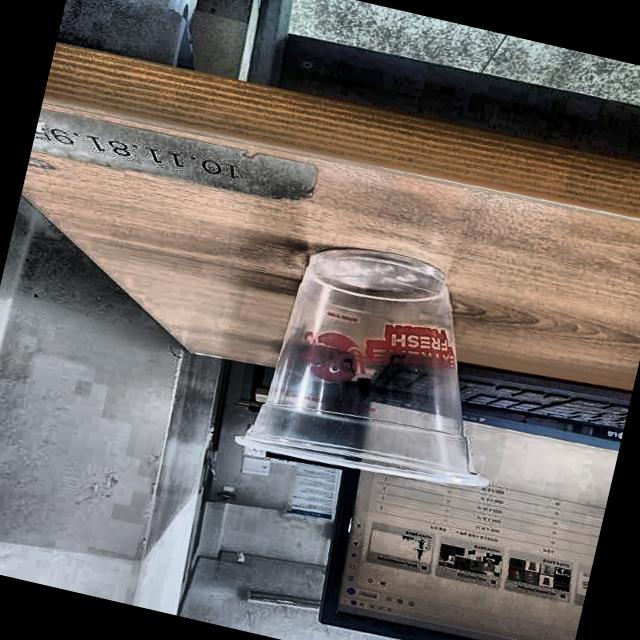plastic cup: (230, 230, 530, 505)
